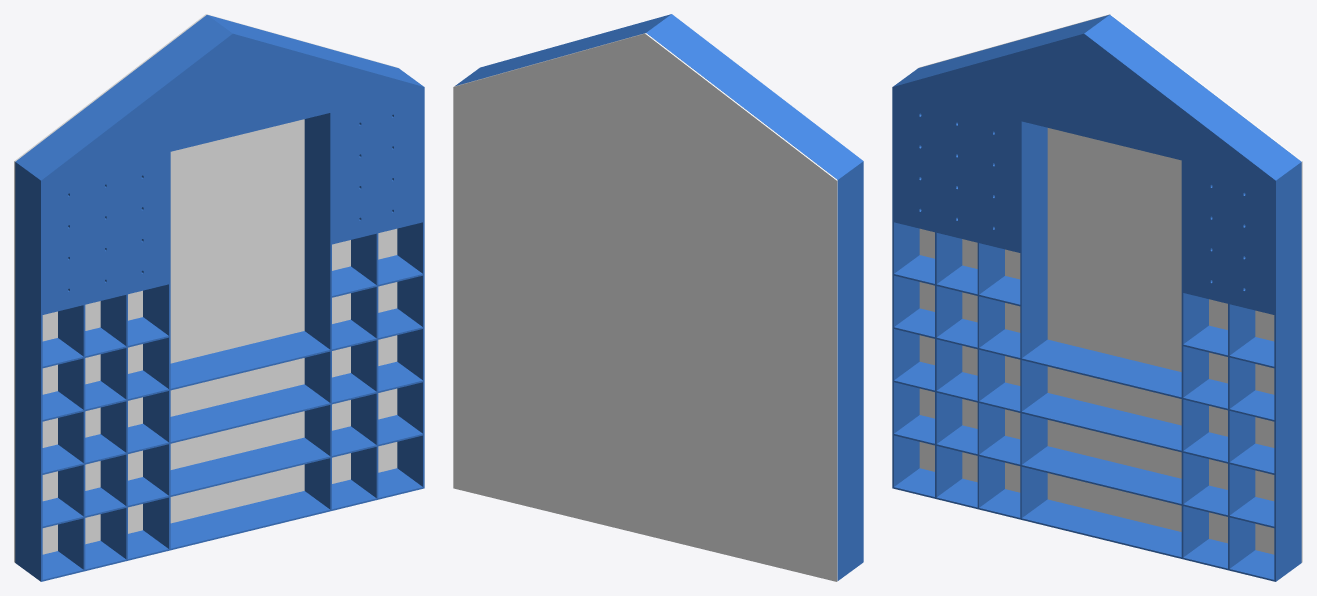
File: rangka 1.glb
The picture shows the model from 3 angles, left to right: view 1: azimuth 30°, elevation 25°; view 2: azimuth 150°, elevation 25°; view 3: azimuth 330°, elevation 25°; orthographic projection.
Visible parts, largest first — view 1: Curve.002, Curve.001; view 2: Curve.001, Curve.002; view 3: Curve.002, Curve.001.
Part boxes in pixels (x1=…): Curve.002: x1=15, y1=15, x2=424, y2=581; Curve.001: x1=14, y1=14, x2=397, y2=562; Curve.001: x1=453, y1=33, x2=837, y2=581; Curve.002: x1=455, y1=14, x2=863, y2=580; Curve.002: x1=892, y1=15, x2=1301, y2=581; Curve.001: x1=919, y1=14, x2=1302, y2=562.
Size of the model in its own units: 12 by 15 by 1.45.
